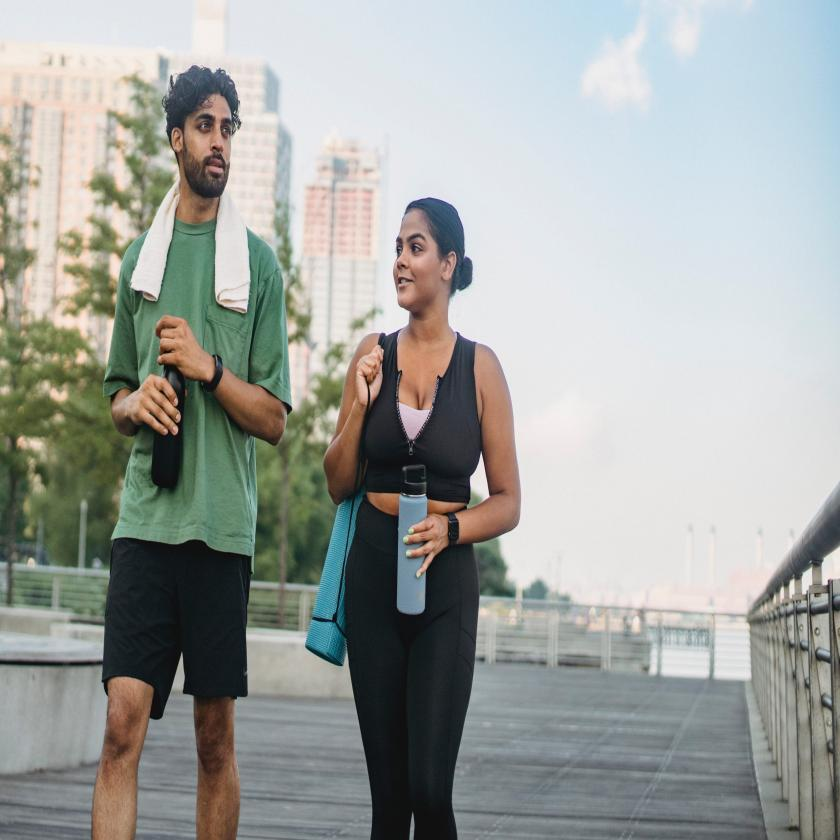Sin_casco: (162, 54, 241, 222), (385, 192, 465, 334)
